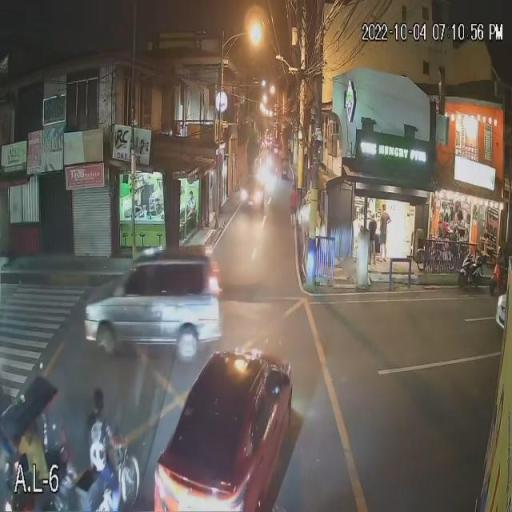motorcycle: (453, 256, 486, 290)
